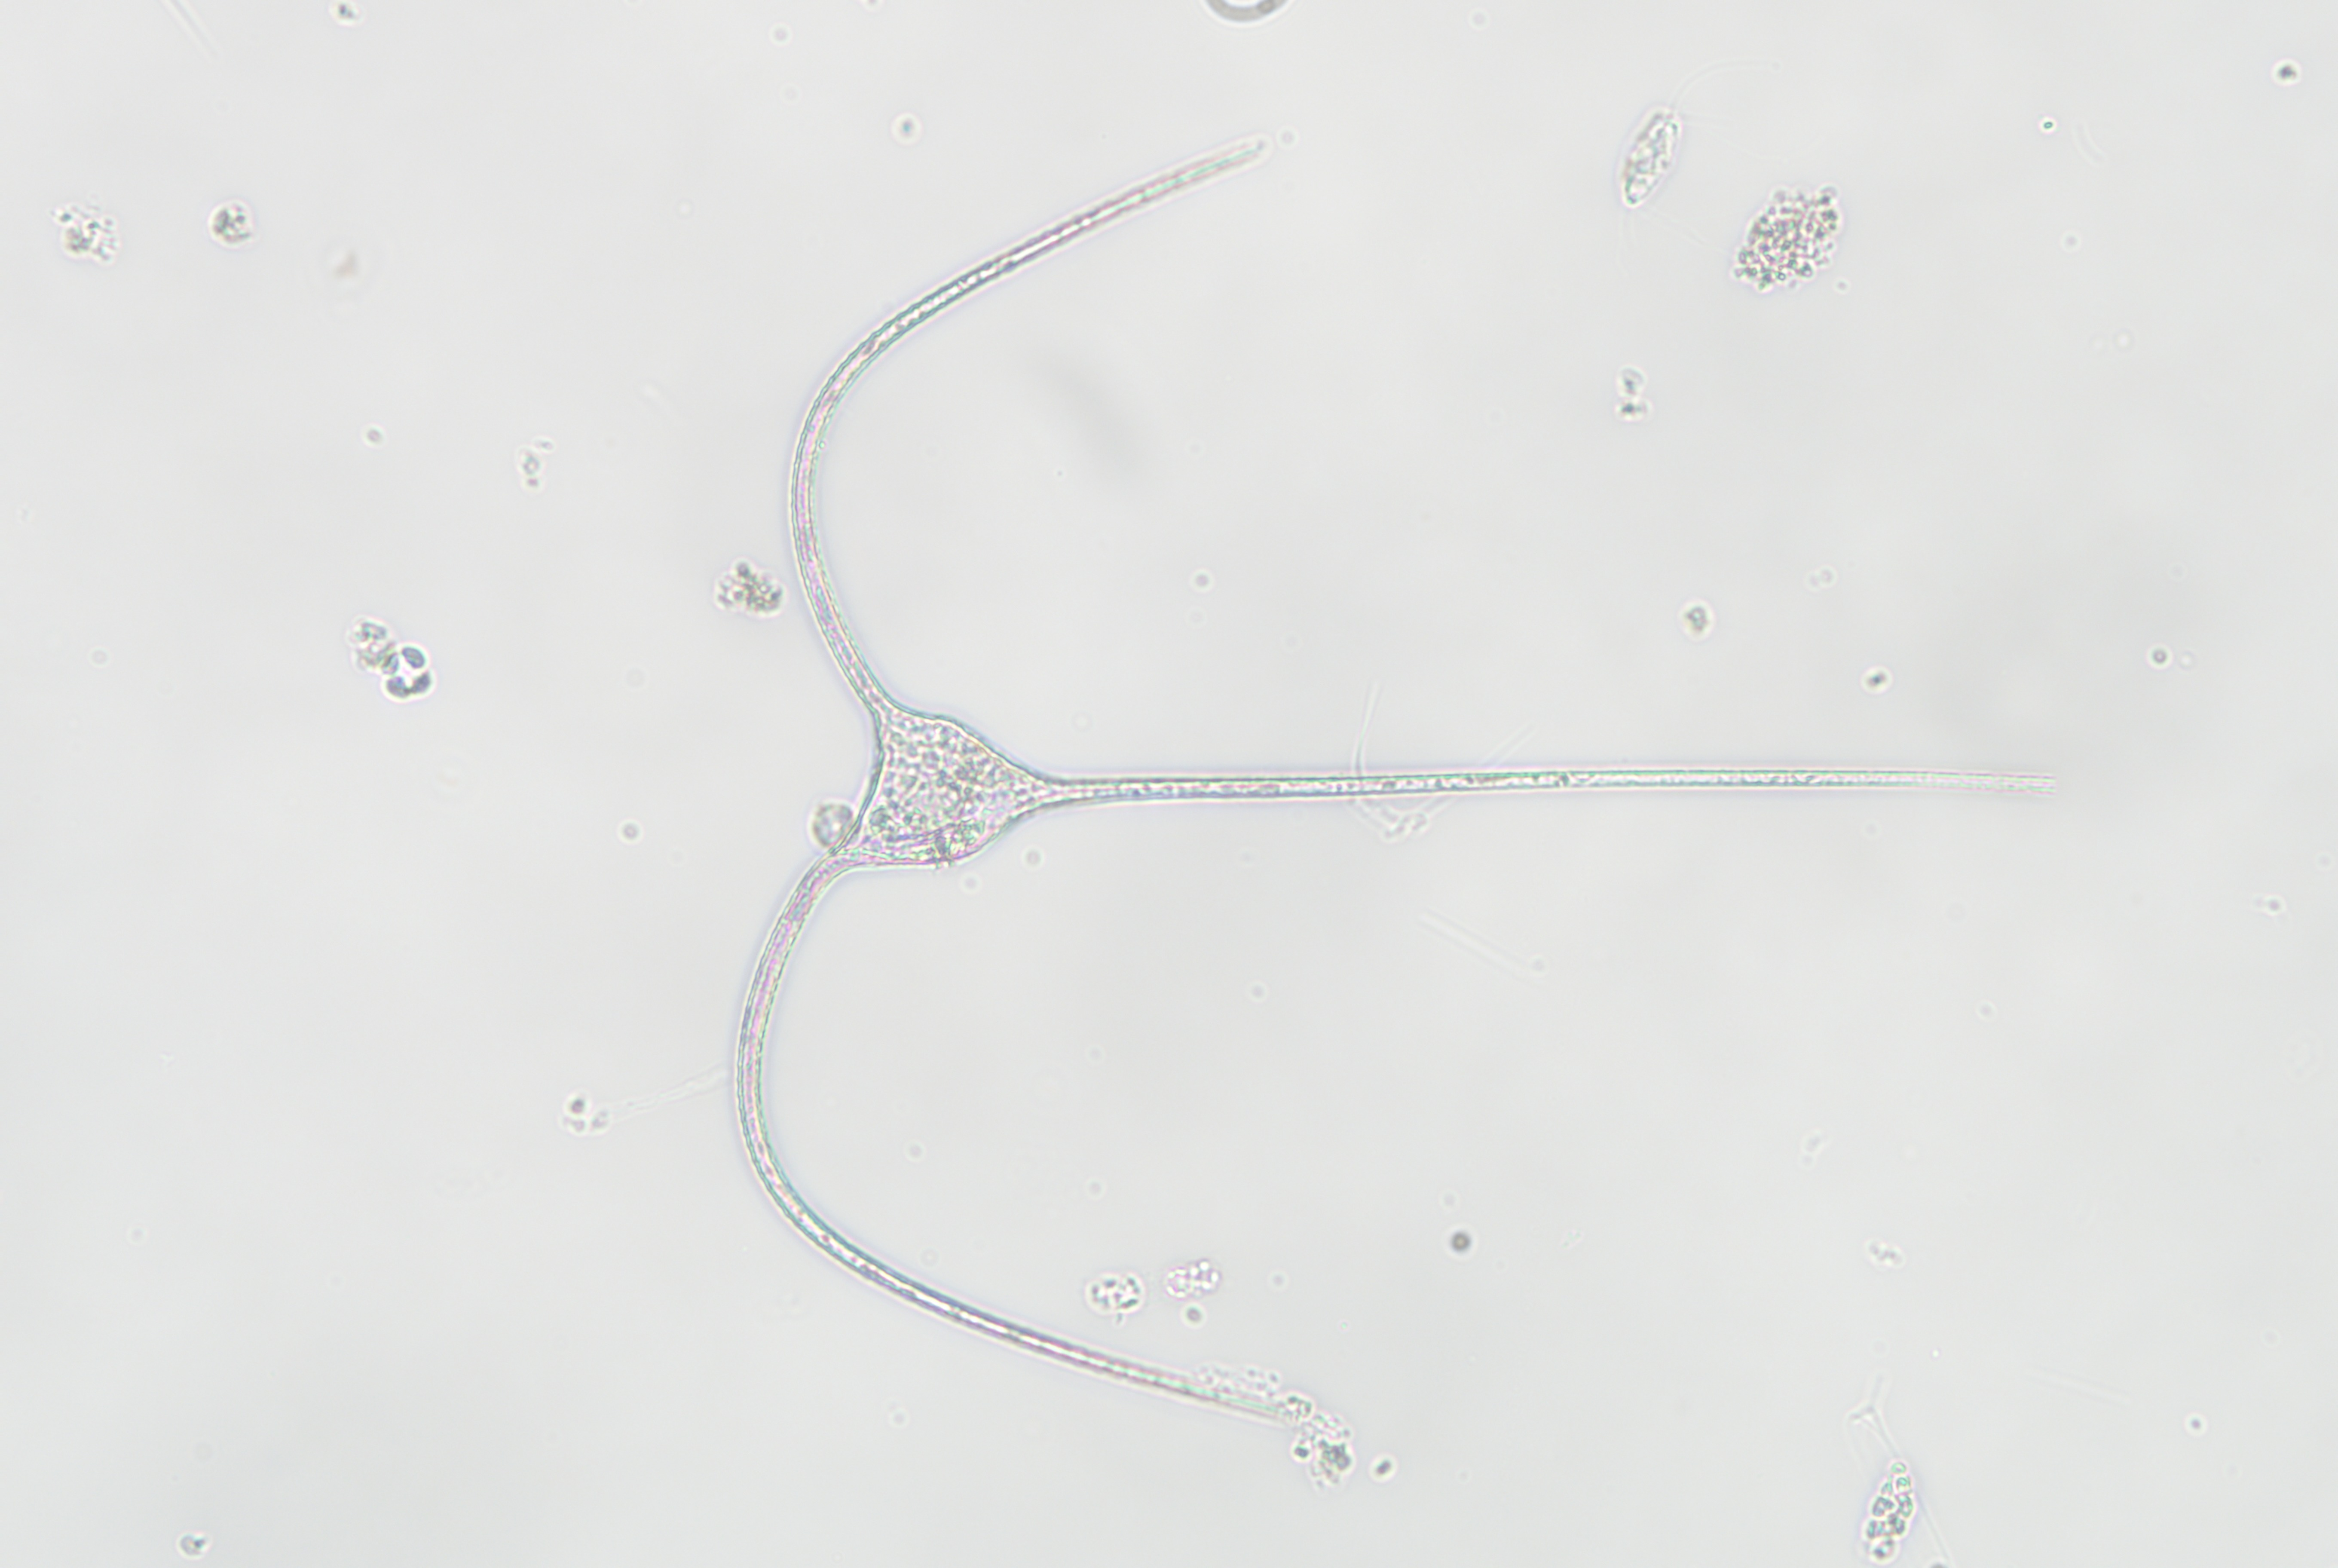ceratium trichoceros: (674, 105, 2133, 1465)
